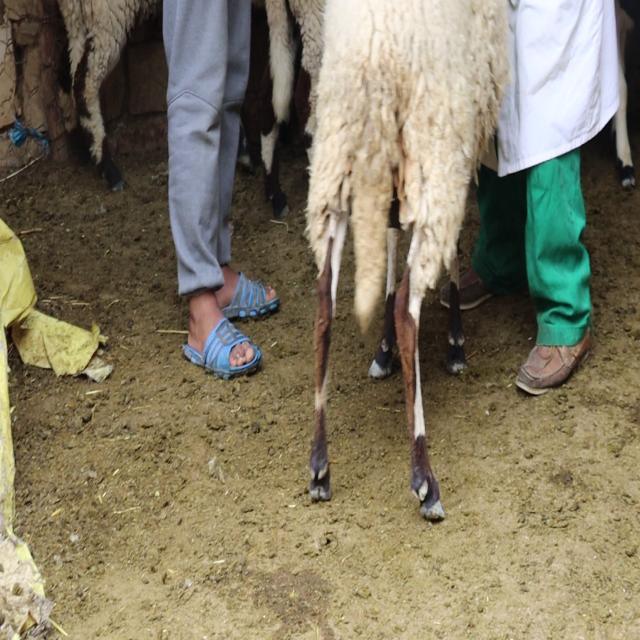Score_4: (306, 0, 509, 519)
